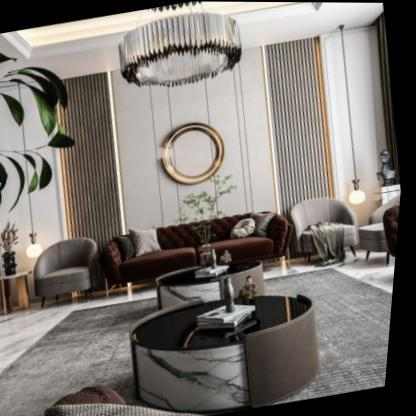Carpet: (2, 298, 162, 416), (279, 284, 397, 404)
Chair: (285, 188, 371, 270), (31, 230, 111, 309)
Gypsum Board: (0, 0, 385, 95)
Sofa: (98, 197, 298, 295)
Wall Panel: (43, 21, 404, 244)
